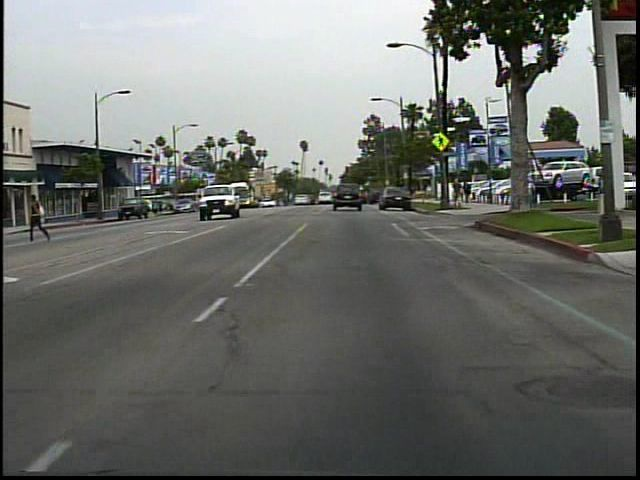person: (28, 192, 58, 244), (527, 178, 537, 215)
